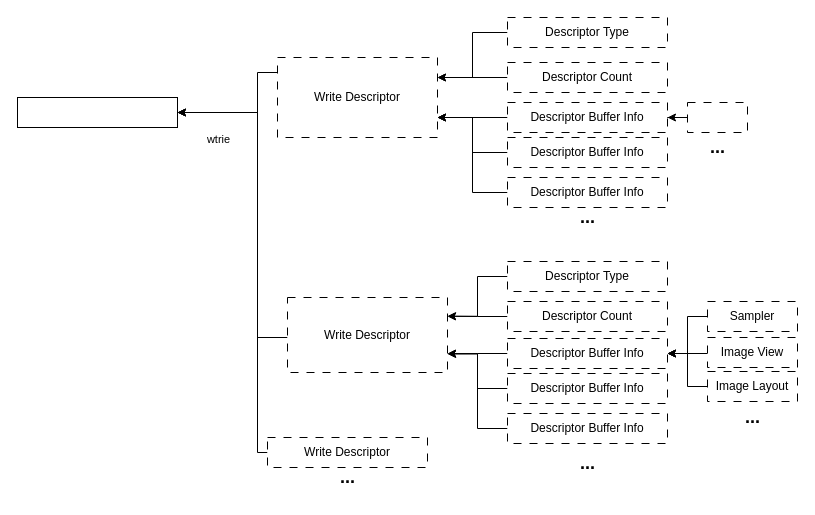
The diagram is 815 pixels wide and 515 high, and some of its shapes have lost their labels. The centre of each missing label's shape, as x and y in pixels:
"Buffer" belongs at (x=717, y=117).
"Descriptor Set" belongs at (x=97, y=112).
